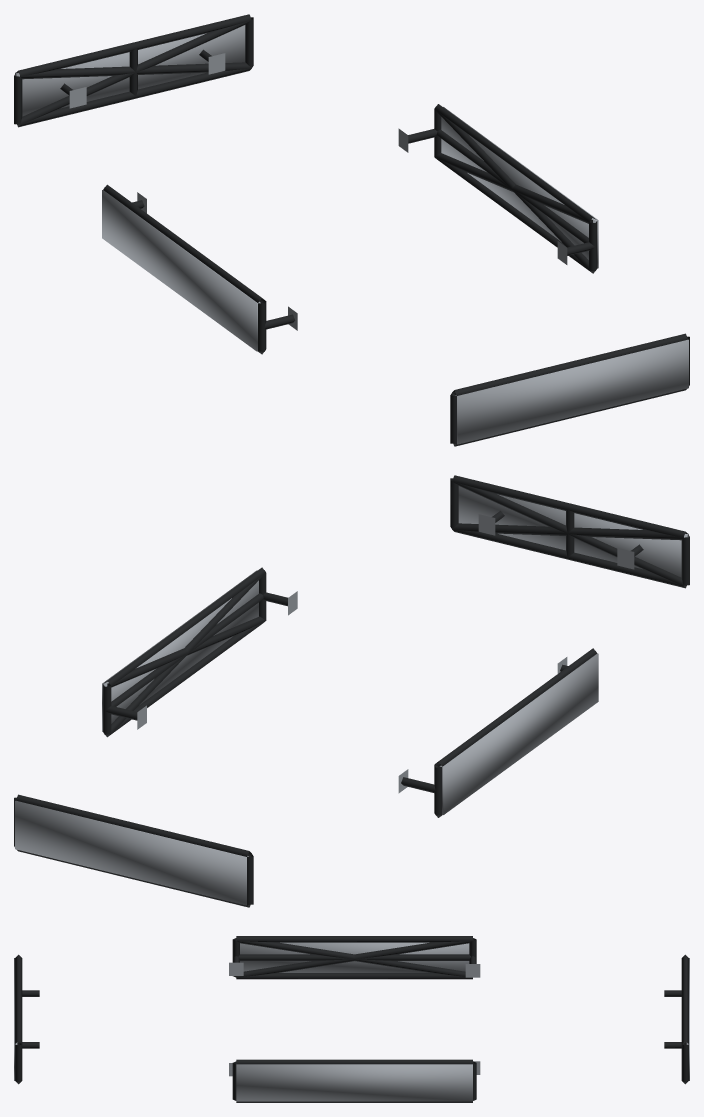
The model's file is halberton_serrote_protecao.glb.
The picture shows the model from 3 angles, top to bottom: view 1: azimuth 30°, elevation 25°; view 2: azimuth 150°, elevation 25°; view 3: azimuth 270°, elevation 25°; orthographic projection. The views are drawn at different scales.
Visible parts, largest first — view 1: Protection_front_Level3_Details, Protection_left_Level3_Details, Protection_rear_Level1_Details, Protection_rear_Level3_Details, Protection_right_Level1_Details, Protection_rear_Level2_Details, Protection_right_Level2_Details, Protection_right_Level3_Details, Protection_front_Level1_Details, Protection_left_Level1_Details; view 2: Protection_rear_Level3_Details, Protection_left_Level3_Details, Protection_front_Level1_Details, Protection_front_Level3_Details, Protection_right_Level1_Details, Protection_front_Level2_Details, Protection_right_Level2_Details, Protection_right_Level3_Details, Protection_rear_Level1_Details, Protection_left_Level1_Details; view 3: Protection_right_Level3_Details, Protection_left_Level2_Details, Protection_left_Level1_Details, Protection_left_Level3_Details, Protection_right_Level1_Details, Protection_rear_Level1_Details, Protection_front_Level1_Details.
Part boxes in pixels (x1,y1,x2,y2): Protection_front_Level3_Details: (455,339,688,444); Protection_left_Level3_Details: (102,190,260,351); Protection_rear_Level1_Details: (14,14,253,127); Protection_rear_Level3_Details: (15,25,245,116); Protection_right_Level1_Details: (398,104,597,273); Protection_rear_Level2_Details: (15,20,251,126); Protection_right_Level2_Details: (434,110,596,273); Protection_right_Level3_Details: (441,107,598,268); Protection_front_Level1_Details: (450,333,689,446); Protection_left_Level1_Details: (103,184,297,354); Protection_rear_Level3_Details: (15,800,248,905); Protection_left_Level3_Details: (439,653,598,814); Protection_front_Level1_Details: (450,475,689,588); Protection_front_Level3_Details: (458,486,688,577); Protection_right_Level1_Details: (103,567,297,737); Protection_front_Level2_Details: (452,481,688,587); Protection_right_Level2_Details: (105,574,265,736); Protection_right_Level3_Details: (102,570,258,731); Protection_rear_Level1_Details: (14,794,253,907); Protection_left_Level1_Details: (398,648,597,817); Protection_right_Level3_Details: (236,1064,472,1101); Protection_left_Level2_Details: (236,939,473,977); Protection_left_Level1_Details: (229,936,480,979); Protection_left_Level3_Details: (240,942,469,972); Protection_right_Level1_Details: (229,1059,480,1102); Protection_rear_Level1_Details: (664,954,688,1084); Protection_front_Level1_Details: (15,954,39,1084).
Bounding box in the file's own units: 2.23 × 0.354 × 5.
Materials: 1 (1 with a texture image).
